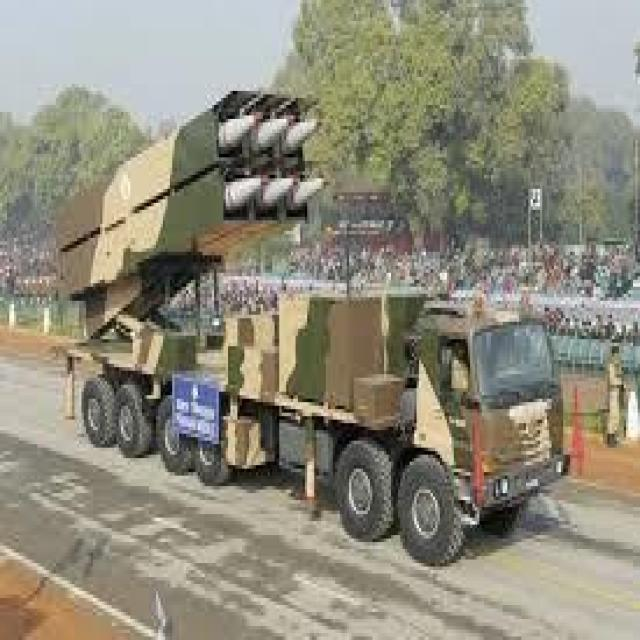Tanks: (55, 70, 564, 570)
